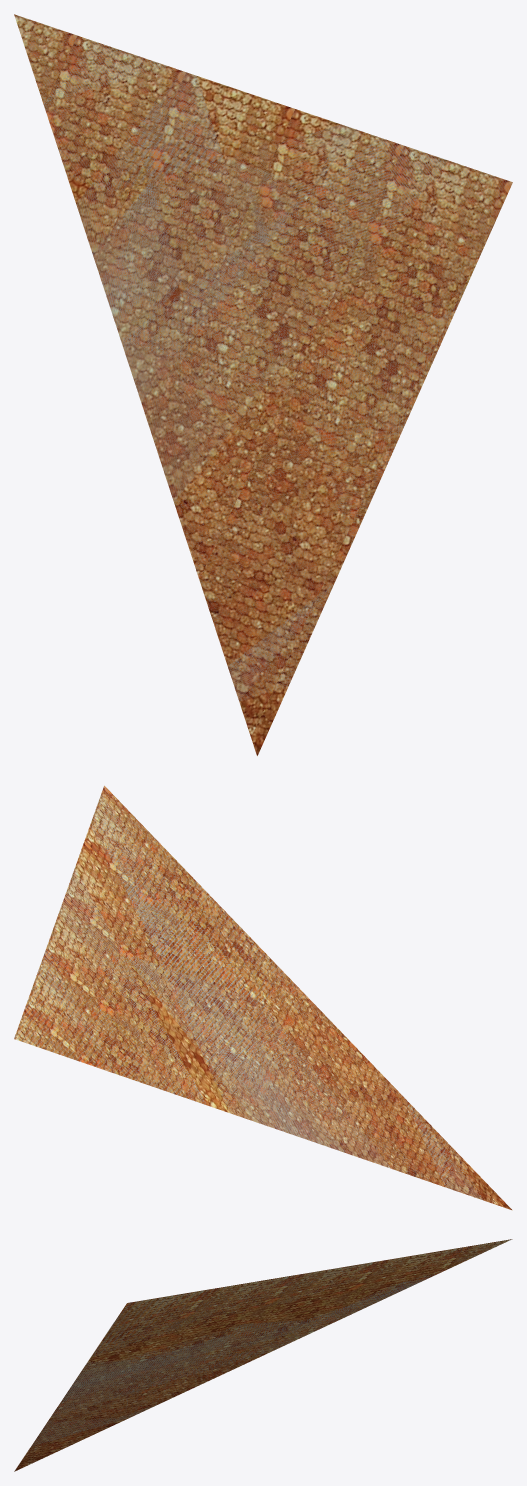
File: 西庸城堡427.dae
The picture shows the model from 3 angles, top to bottom: view 1: azimuth 30°, elevation 25°; view 2: azimuth 150°, elevation 25°; view 3: azimuth 270°, elevation 25°; orthographic projection. The views are drawn at different scales.
Visible parts, largest first — view 1: SketchUp; view 2: SketchUp; view 3: SketchUp.
Part boxes in pixels (bbox=[...]): SketchUp: bbox=[14, 14, 512, 756]; SketchUp: bbox=[14, 785, 512, 1210]; SketchUp: bbox=[14, 1239, 512, 1471].
Bounding box in the file's own units: 231 × 449 × 276.
